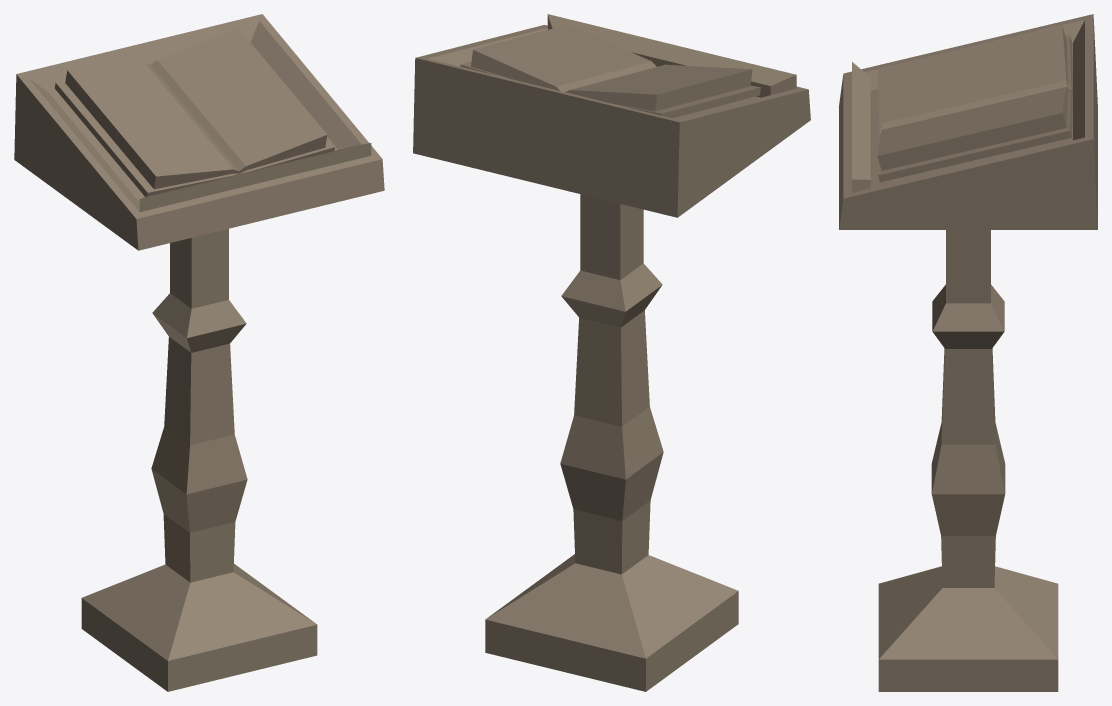
Rendered from Book Stand.003.fbx.
3 views of the same model, side by side, from view 1: azimuth 30°, elevation 25°; view 2: azimuth 150°, elevation 25°; view 3: azimuth 270°, elevation 25° (orthographic). The views are drawn at different scales.
Visible parts, largest first — view 1: Book Stand.003; view 2: Book Stand.003; view 3: Book Stand.003.
Boxes of the visible parts, <box> form: Book Stand.003: <box>14,14,384,691</box>; Book Stand.003: <box>413,14,810,691</box>; Book Stand.003: <box>839,14,1097,691</box>.
Bounding box in the file's own units: 70.48 × 153 × 61.57.
